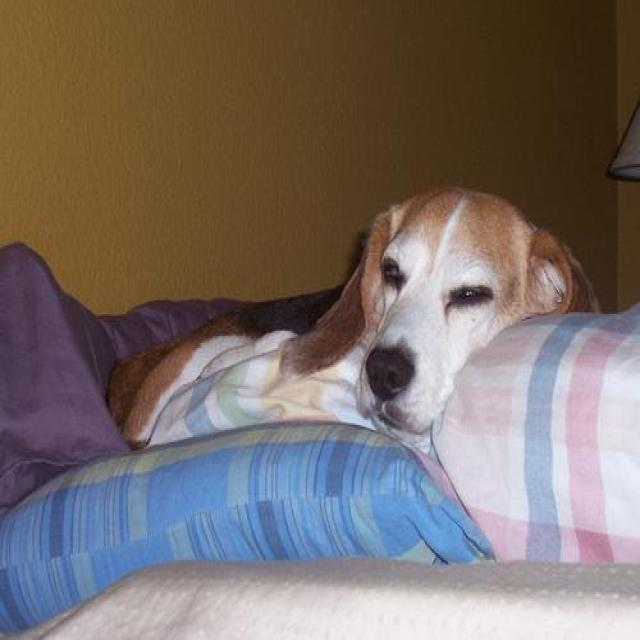beagle: (88, 191, 580, 437)
